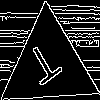T: (23, 39, 68, 95)
